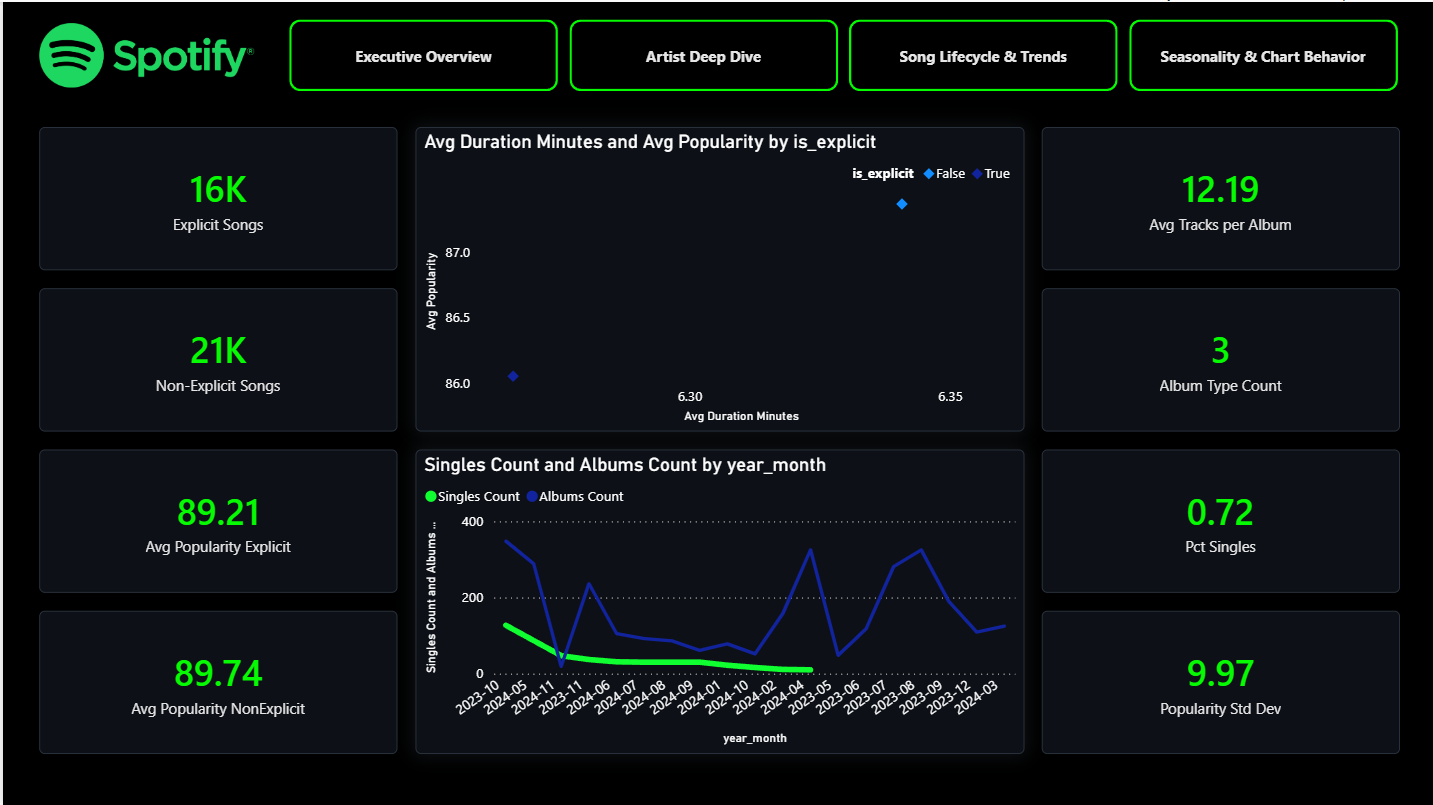

What the dashboard file says about the page in this screenshot:
{"tool":"powerbi","page":{"name":"Content & Release-Format Trends","canvas":[1280,720],"ordinal":4},"visuals":[{"type":"image","box":[32,16,192,64],"z":0},{"type":"scatterChart","fields":{"X":["Measure.Avg Duration Minutes"],"Y":["Measure.Avg Popularity"],"Series":["dim_songs.is_explicit"]},"box":[368,112,544,272],"z":1000},{"type":"cardVisual","fields":{"Data":["Measure.Explicit Songs"]},"box":[32,112,320,128],"z":2000},{"type":"cardVisual","fields":{"Data":["Measure.Non-Explicit Songs"]},"box":[32,256,320,128],"z":3000},{"type":"cardVisual","fields":{"Data":["Measure.Avg Popularity Explicit"]},"box":[32,400,320,128],"z":4000},{"type":"cardVisual","fields":{"Data":["Measure.Album Type Count"]},"box":[928,256,320,128],"z":5000},{"type":"cardVisual","fields":{"Data":["Measure.Avg Tracks per Album"]},"box":[928,112,320,128],"z":6000},{"type":"cardVisual","fields":{"Data":["Measure.Pct Singles"]},"box":[928,400,320,128],"z":7000},{"type":"cardVisual","fields":{"Data":["Measure.Popularity Std Dev"]},"box":[928,544,320,128],"z":8000},{"type":"cardVisual","fields":{"Data":["Measure.Avg Popularity NonExplicit"]},"box":[32,544,320,128],"z":9000},{"type":"lineChart","fields":{"Category":["dim_dates.year_month"],"Y":["Measure.Singles Count","Measure.Albums Count"]},"box":[368,400,544,272],"z":10000},{"type":"pageNavigator","box":[256,16,992,64],"z":11000}]}

Visuals, with their boxes in screenshot pixels (x1, y1, x2, y2), scaled from the page's 1280x720 canvas onto the 1433x805 screenshot:
image: select_region(36, 18, 251, 89)
scatterChart - Measure.Avg Duration Minutes x Measure.Avg Popularity: select_region(412, 125, 1021, 429)
cardVisual - Measure.Explicit Songs: select_region(36, 125, 394, 268)
cardVisual - Measure.Non-Explicit Songs: select_region(36, 286, 394, 429)
cardVisual - Measure.Avg Popularity Explicit: select_region(36, 447, 394, 590)
cardVisual - Measure.Album Type Count: select_region(1039, 286, 1397, 429)
cardVisual - Measure.Avg Tracks per Album: select_region(1039, 125, 1397, 268)
cardVisual - Measure.Pct Singles: select_region(1039, 447, 1397, 590)
cardVisual - Measure.Popularity Std Dev: select_region(1039, 608, 1397, 751)
cardVisual - Measure.Avg Popularity NonExplicit: select_region(36, 608, 394, 751)
lineChart - dim_dates.year_month x Measure.Singles Count: select_region(412, 447, 1021, 751)
pageNavigator: select_region(287, 18, 1397, 89)
